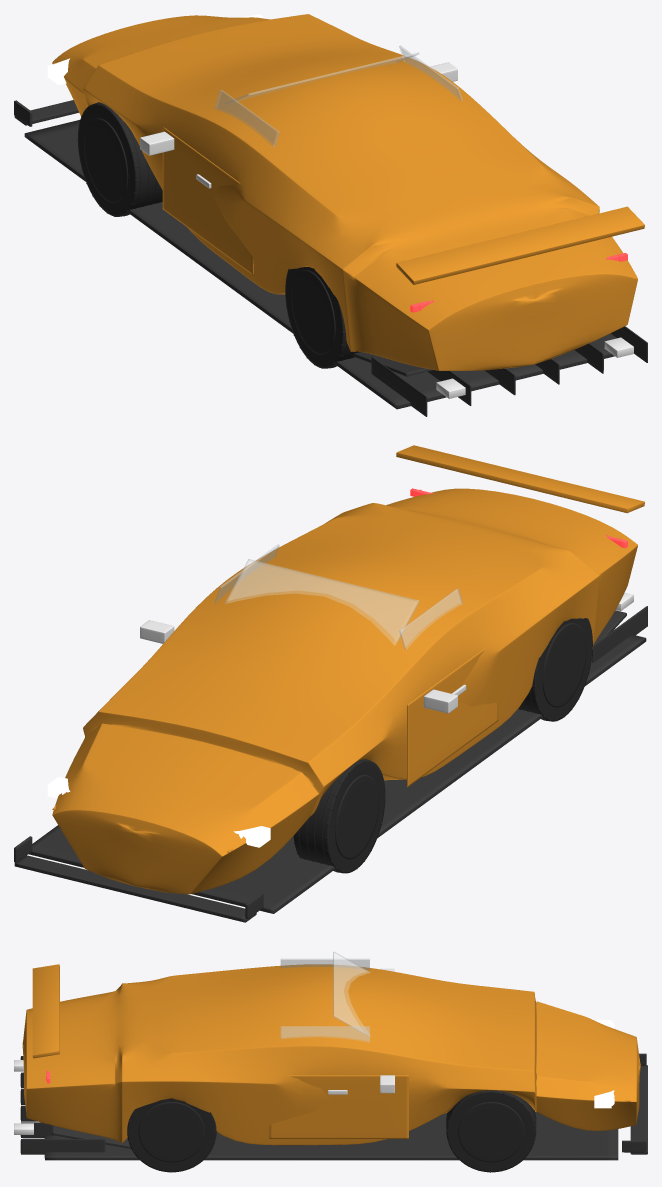
Rendered from vehicle.glb.
3 views of the same model, one above another, from view 1: azimuth 30°, elevation 25°; view 2: azimuth 150°, elevation 25°; view 3: azimuth 270°, elevation 25° (orthographic). The views are drawn at different scales.
Parts seen in each view (by area): view 1: BODY_MainShell, UNDERBODY_FlatFloor, WHEEL_FL_Tire, AERO_CamaroSS_ArchedWing, BODY_Door_FL, WHEEL_RL_Tire, GLASS_Greenhouse, JEWELRY_Hardware, AERO_FrontSplitter, JEWELRY_CamaroSS_DualExhaust; view 2: BODY_MainShell, UNDERBODY_FlatFloor, GLASS_Greenhouse, WHEEL_FL_Tire, BODY_Door_FL, WHEEL_RL_Tire, AERO_CamaroSS_ArchedWing, AERO_FrontSplitter, JEWELRY_Hardware, LIGHTING_Headlamps; view 3: BODY_MainShell, UNDERBODY_FlatFloor, BODY_Door_FR, WHEEL_FR_Tire, WHEEL_RR_Tire, GLASS_Greenhouse, AERO_CamaroSS_ArchedWing, AERO_FrontSplitter, JEWELRY_Hardware, LIGHTING_Headlamps, JEWELRY_CamaroSS_DualExhaust.
Part boxes in pixels (x1,y1,x2,y2): BODY_MainShell: [52, 14, 637, 370]; UNDERBODY_FlatFloor: [24, 120, 647, 416]; WHEEL_FL_Tire: [77, 102, 162, 216]; AERO_CamaroSS_ArchedWing: [396, 206, 644, 284]; BODY_Door_FL: [162, 127, 253, 275]; WHEEL_RL_Tire: [285, 267, 360, 368]; GLASS_Greenhouse: [214, 45, 462, 146]; JEWELRY_Hardware: [140, 62, 457, 188]; AERO_FrontSplitter: [14, 100, 78, 126]; JEWELRY_CamaroSS_DualExhaust: [436, 337, 633, 398]; BODY_MainShell: [52, 488, 637, 894]; UNDERBODY_FlatFloor: [28, 606, 647, 913]; GLASS_Greenhouse: [214, 544, 462, 649]; WHEEL_FL_Tire: [293, 759, 385, 873]; BODY_Door_FL: [407, 648, 498, 787]; WHEEL_RL_Tire: [518, 618, 593, 721]; AERO_CamaroSS_ArchedWing: [396, 445, 644, 513]; AERO_FrontSplitter: [14, 836, 263, 922]; JEWELRY_Hardware: [140, 620, 466, 713]; LIGHTING_Headlamps: [47, 776, 270, 847]; BODY_MainShell: [22, 964, 640, 1145]; UNDERBODY_FlatFloor: [20, 1056, 618, 1160]; BODY_Door_FR: [269, 1075, 408, 1138]; WHEEL_FR_Tire: [446, 1090, 536, 1172]; WHEEL_RR_Tire: [127, 1098, 216, 1172]; GLASS_Greenhouse: [280, 952, 370, 1042]; AERO_CamaroSS_ArchedWing: [32, 964, 59, 1058]; AERO_FrontSplitter: [622, 1053, 647, 1154]; JEWELRY_Hardware: [328, 968, 394, 1094]; LIGHTING_Headlamps: [594, 1020, 614, 1108]; JEWELRY_CamaroSS_DualExhaust: [14, 1060, 33, 1134].
Size of what is drawn, in the model's own units: 2.21 by 1.26 by 5.1.
